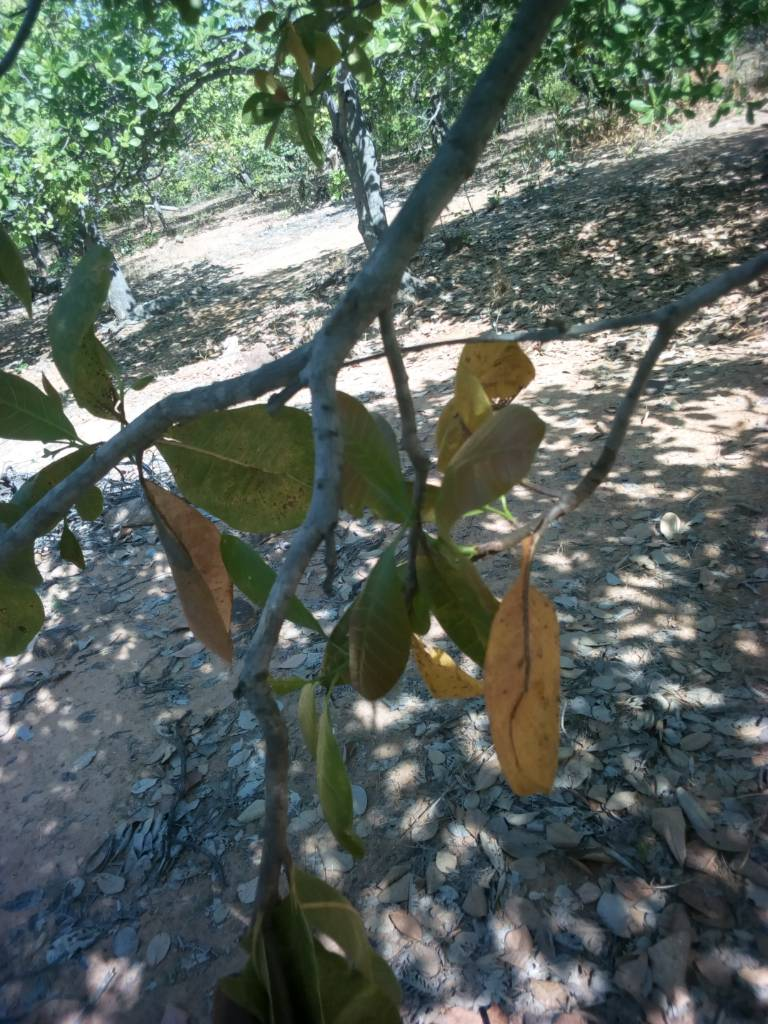Anthracnose: (158, 396, 316, 535), (52, 246, 129, 422)
